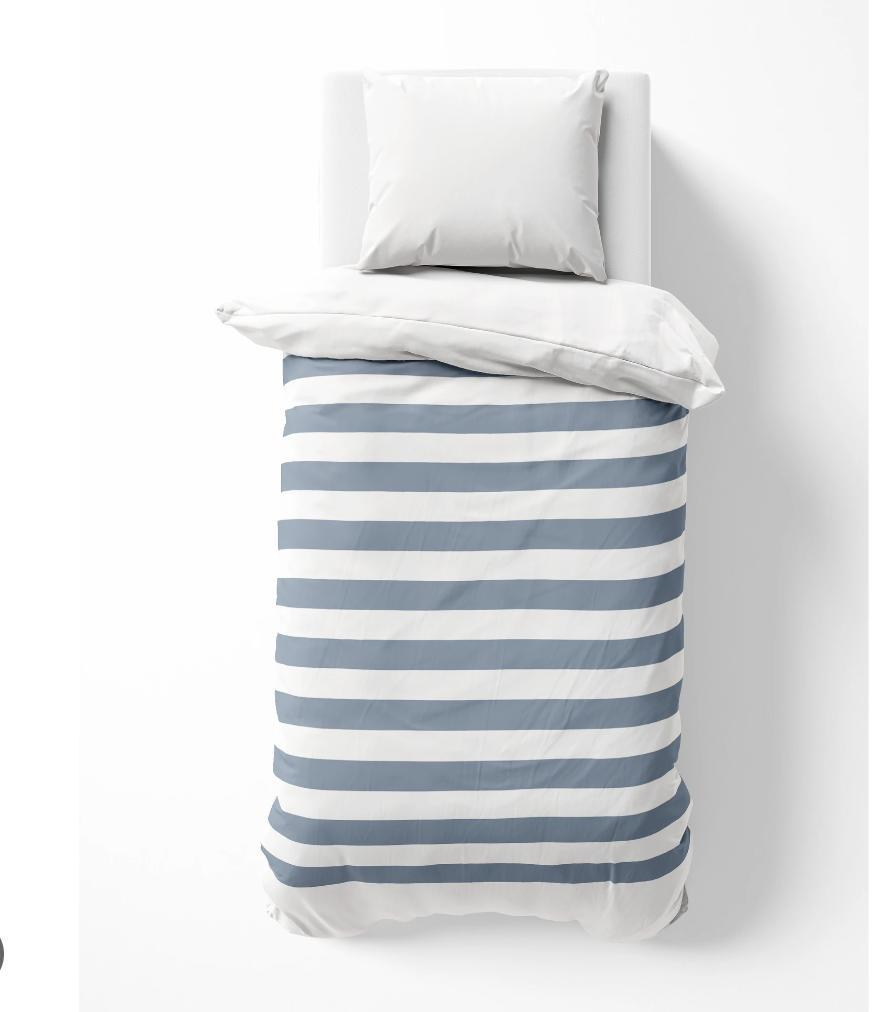Bed-Mattress: (266, 67, 716, 948)
